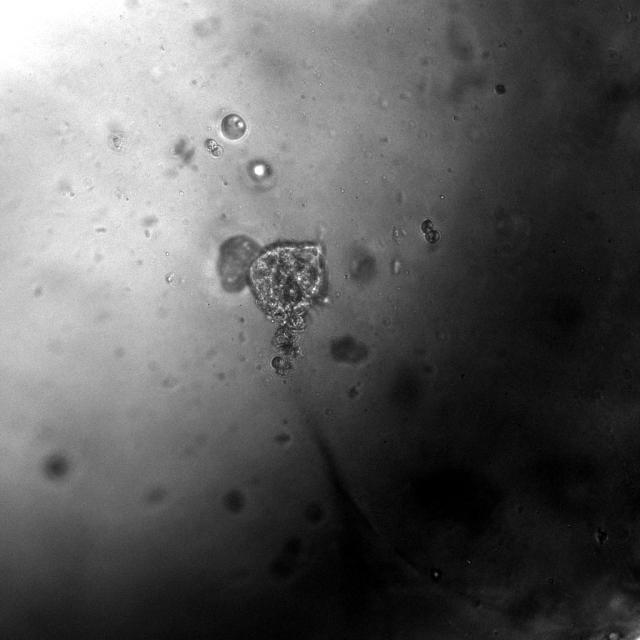organoid: (216, 235, 326, 374), (331, 334, 368, 364), (243, 158, 276, 191), (42, 452, 71, 481), (221, 113, 247, 140), (171, 137, 195, 165), (420, 219, 442, 244), (108, 129, 128, 154), (225, 489, 245, 512), (204, 138, 224, 158), (494, 84, 506, 95)
